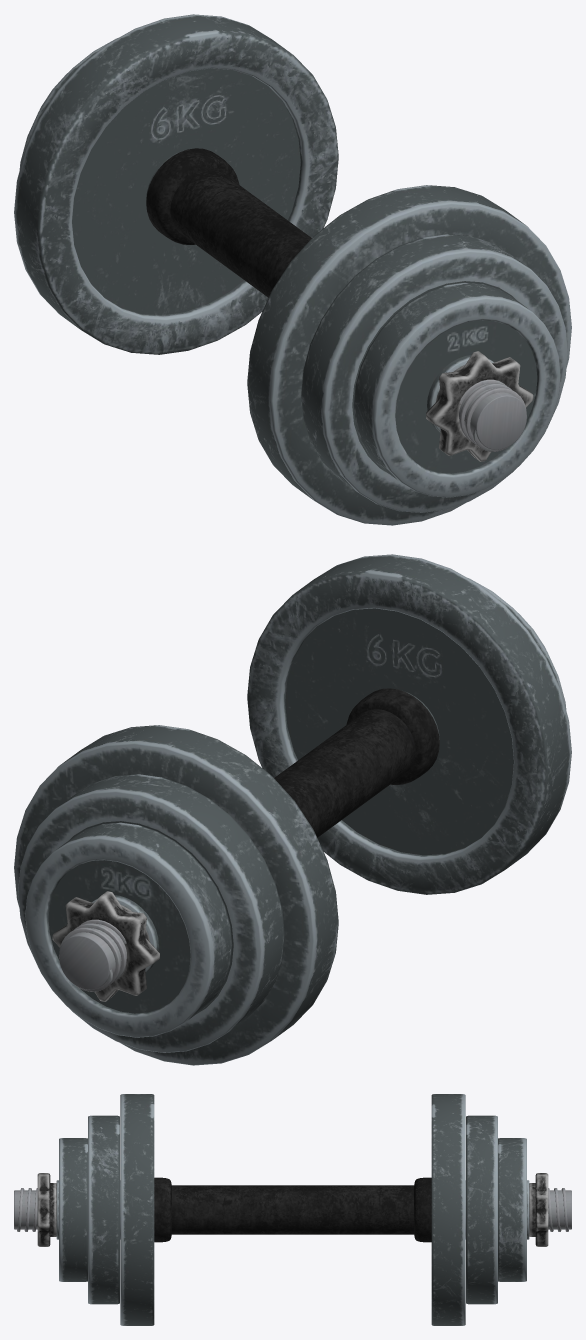
3 renders of one model, top to bottom at view 1: azimuth 30°, elevation 25°; view 2: azimuth 150°, elevation 25°; view 3: azimuth 270°, elevation 25°, orthographic. The views are drawn at different scales.
Parts seen in each view (by area): view 1: dumbbells; view 2: dumbbells; view 3: dumbbells.
Part boxes in pixels (left/top/right/bottom): dumbbells: left=14, top=14, right=571, bottom=525; dumbbells: left=14, top=554, right=571, bottom=1065; dumbbells: left=14, top=1094, right=571, bottom=1325.
Size of the model in its own units: 330 by 330 by 794.
1 material, 1 textured.
